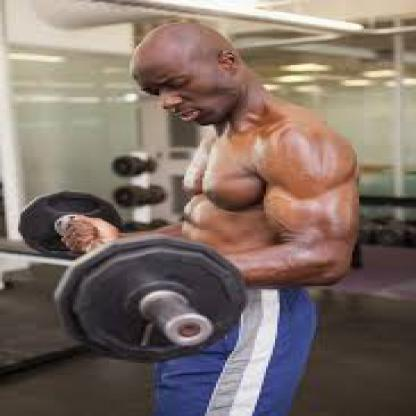Barbell: (160, 310, 217, 356)
